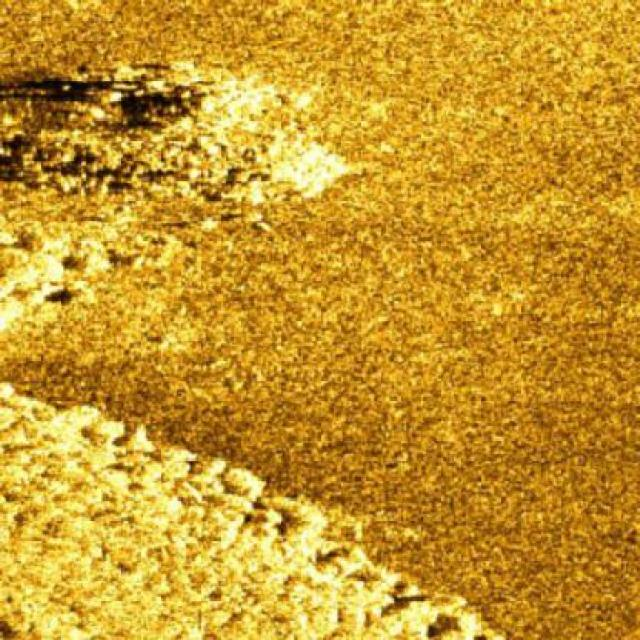bedrock group: (0, 379, 509, 639)
